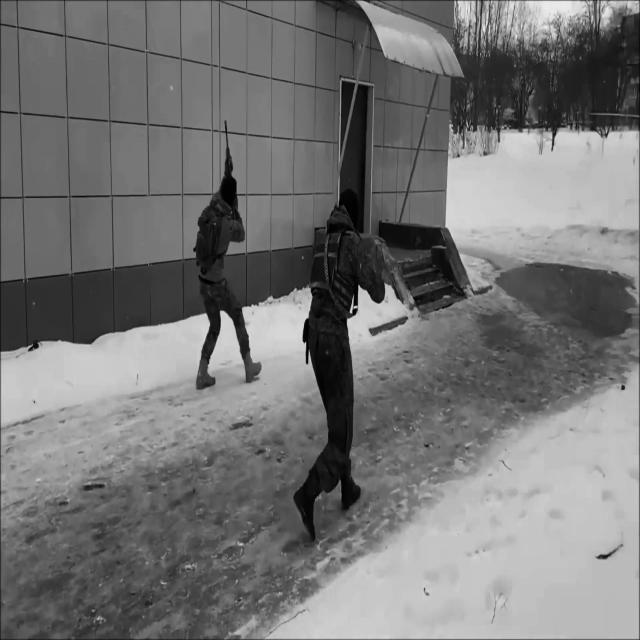gun: (222, 119, 240, 224)
person: (293, 188, 387, 542)
person with a gun: (192, 118, 262, 390)
